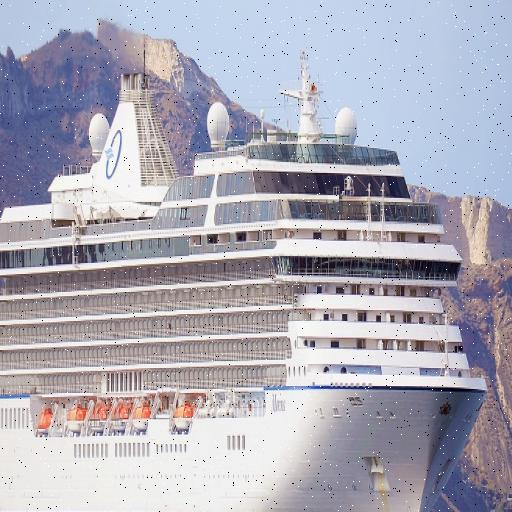cruises: (1, 53, 494, 512)
